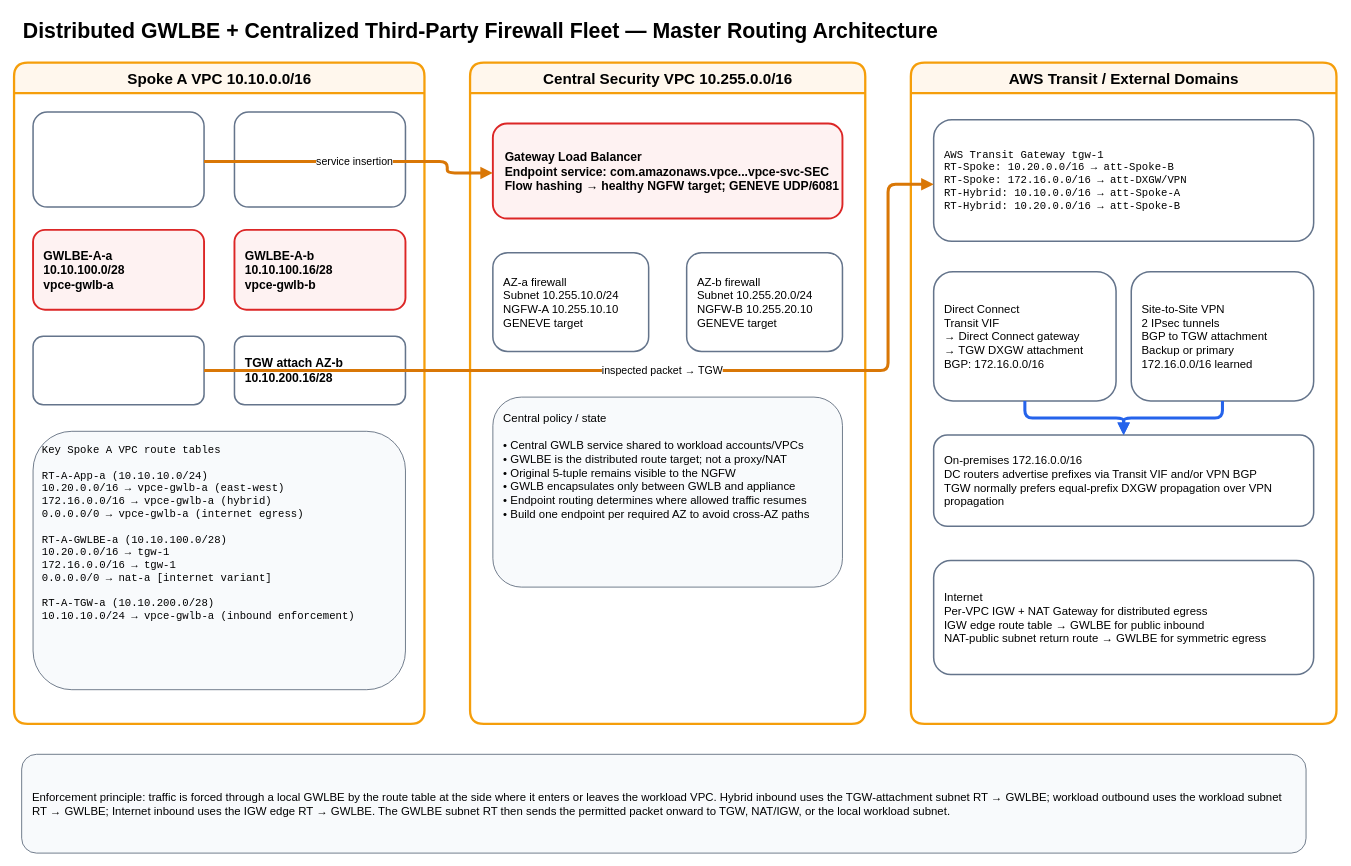
This 1351x866 diagram has some shape labels left out. The shapes that lost their labels are listed below. From the top down, each one's centre as x and y in pixels, then its label:
At pixel 118 159: "AZ-a workload App subnet 10.10.10.0/24 EC2 10.10.10.10 RT-A-App-a".
At pixel 319 159: "AZ-b workload App subnet 10.10.20.0/24 EC2 10.10.20.10 RT-A-App-b".
At pixel 118 370: "TGW attach AZ-a 10.10.200.0/28".
